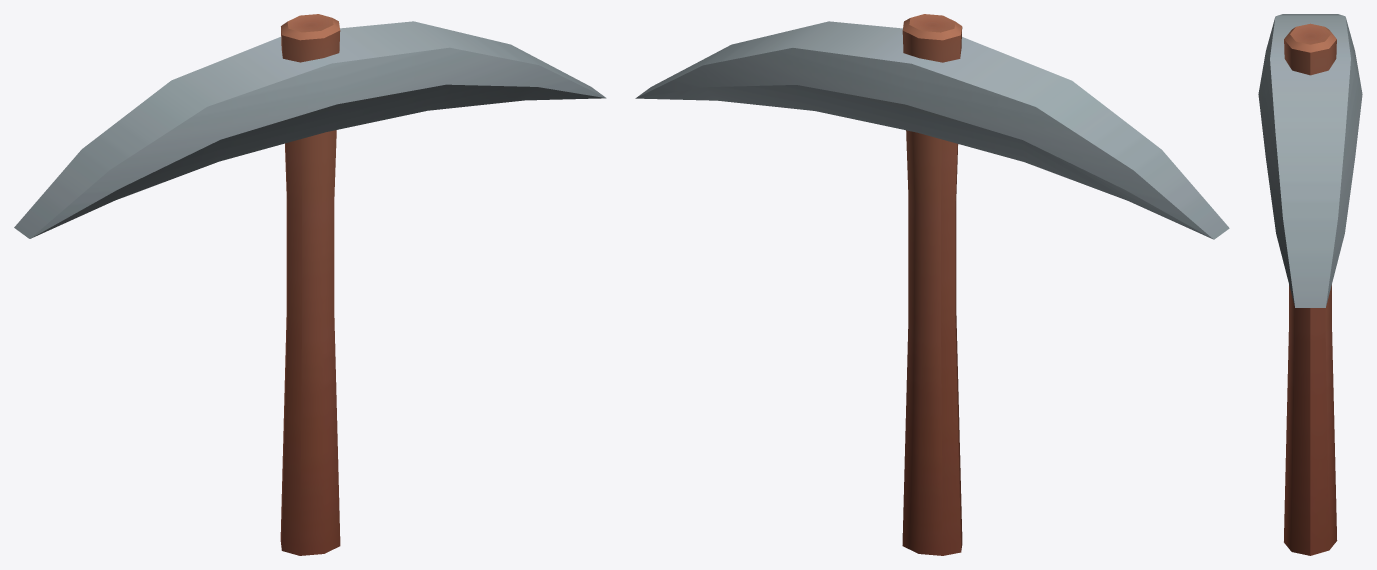
Rendered from pickaxe.glb.
3 views of the same model, side by side, from view 1: azimuth 30°, elevation 25°; view 2: azimuth 150°, elevation 25°; view 3: azimuth 270°, elevation 25° (orthographic). The views are drawn at different scales.
Parts seen in each view (by area): view 1: pickaxe; view 2: pickaxe; view 3: pickaxe.
Part boxes in pixels (box(x1,y1,x2,y2)): pickaxe: box(14, 14, 606, 555); pickaxe: box(635, 14, 1229, 555); pickaxe: box(1258, 14, 1362, 555).
Size of the model in its own units: 1.6 by 1.4 by 0.2568.
1 material, 1 textured.
